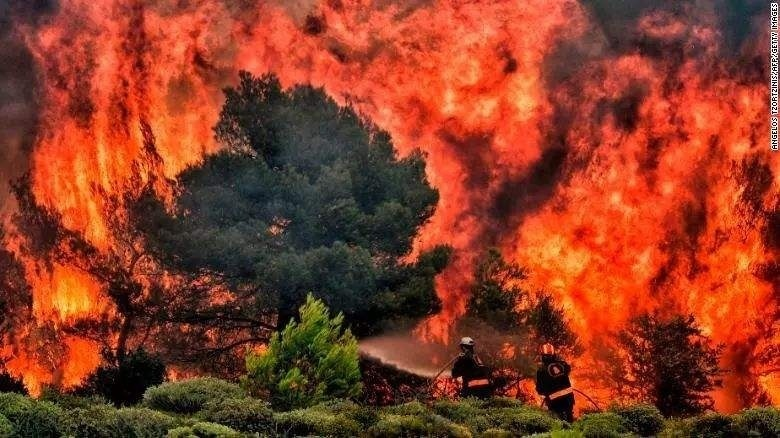fire: (366, 0, 779, 419), (3, 4, 252, 407)
